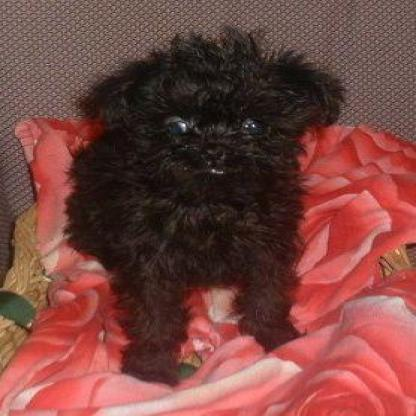affenpinscher: (64, 27, 343, 385)
